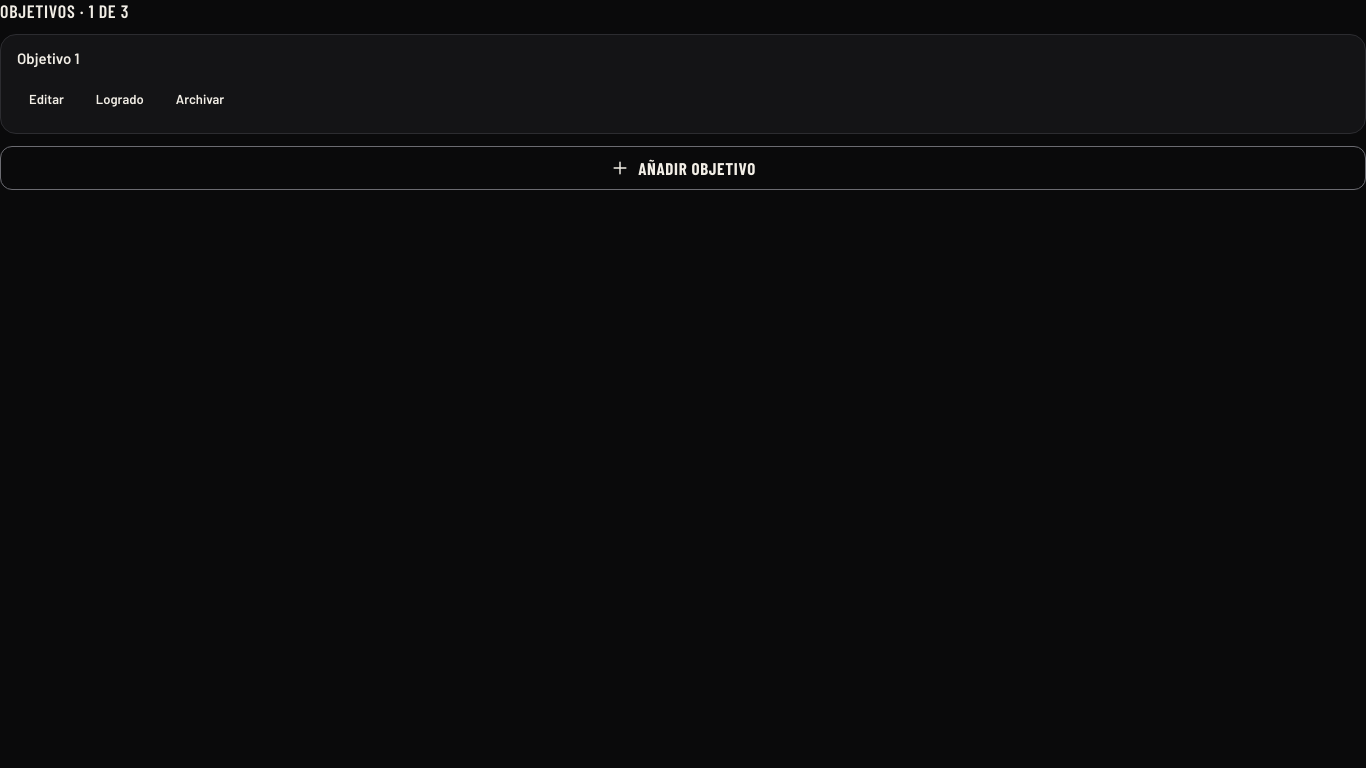
Scenario: PlayerGoals › si la base dice GOAL_LIMIT, la hoja lo explica y sigue abierta
Click the button "Añadir objetivo" at (683,168), box [0,146,1365,190]
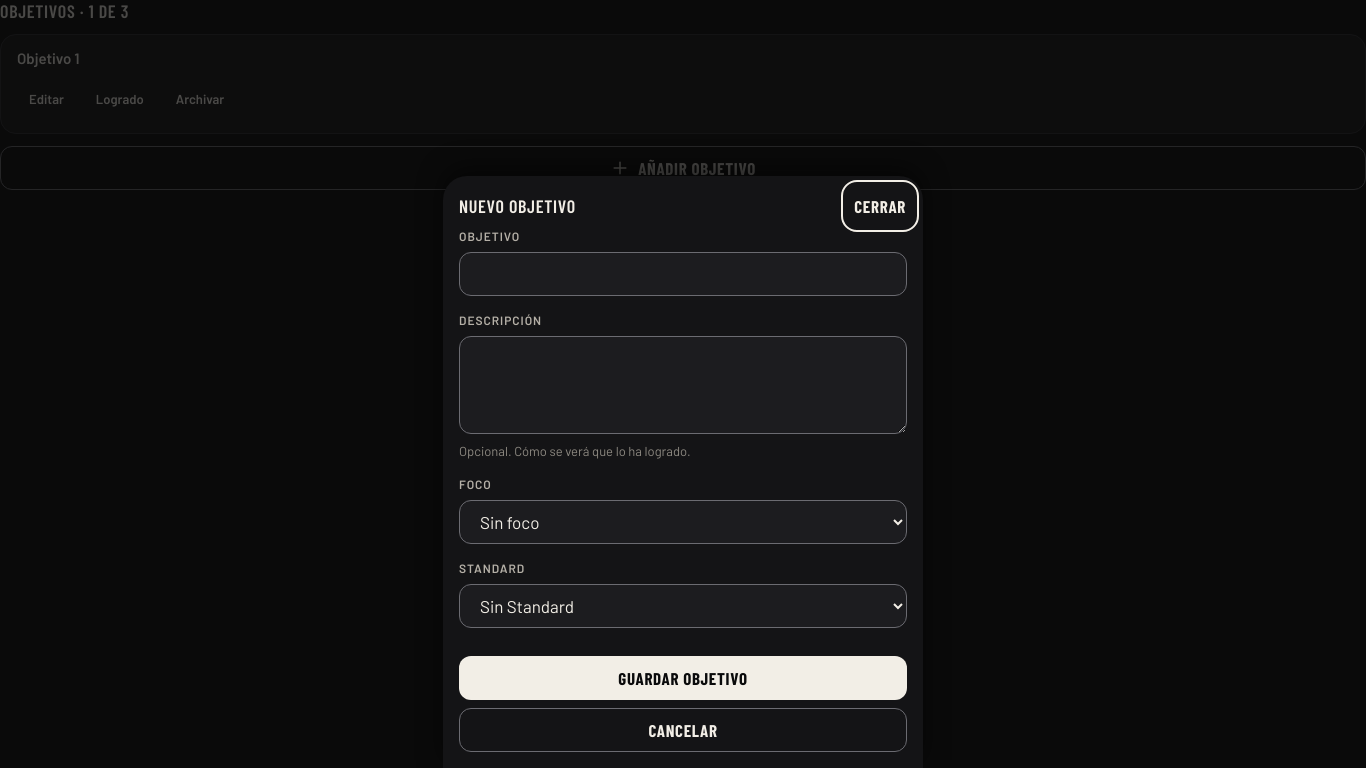
Type "Otro" into the field labelled "Objetivo" at (683,274), box [459,252,907,296]
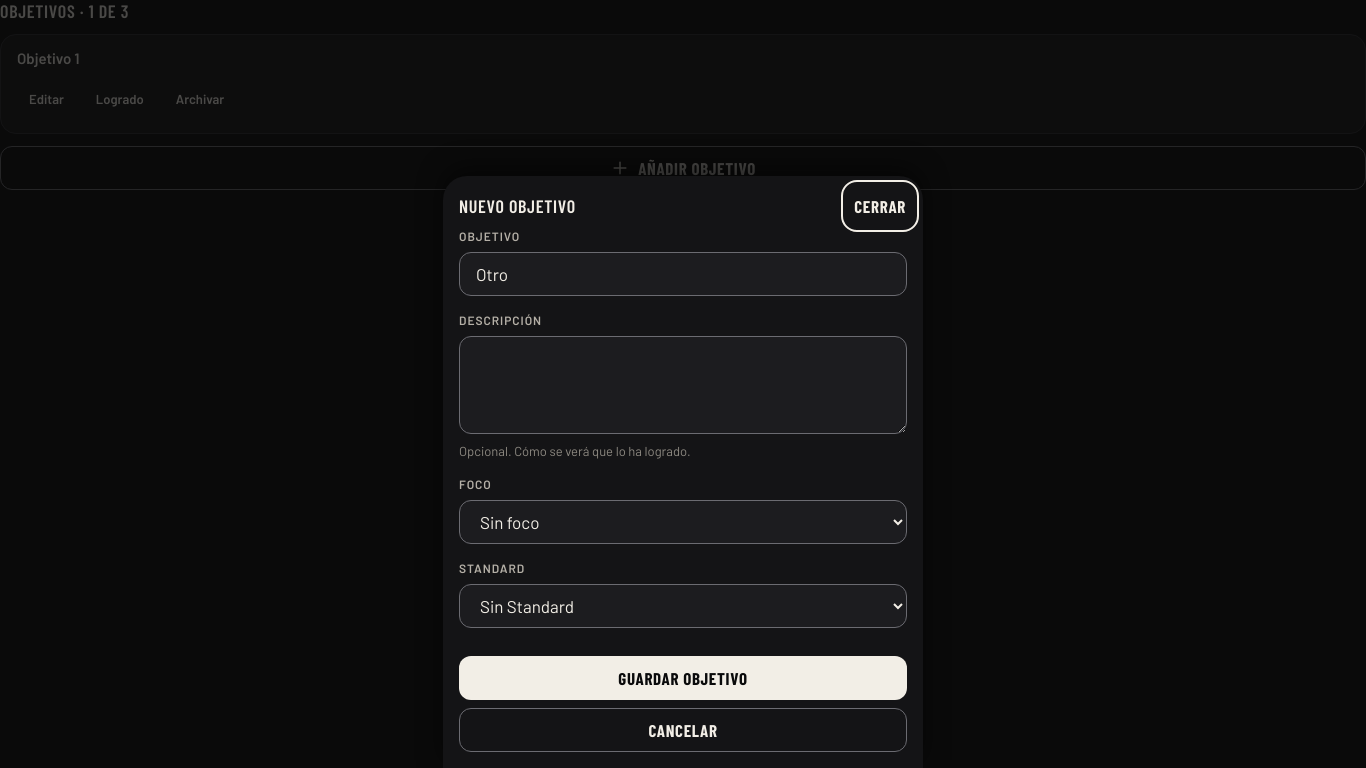
Click the button "Guardar objetivo" at (683,678), box [459,656,907,700]
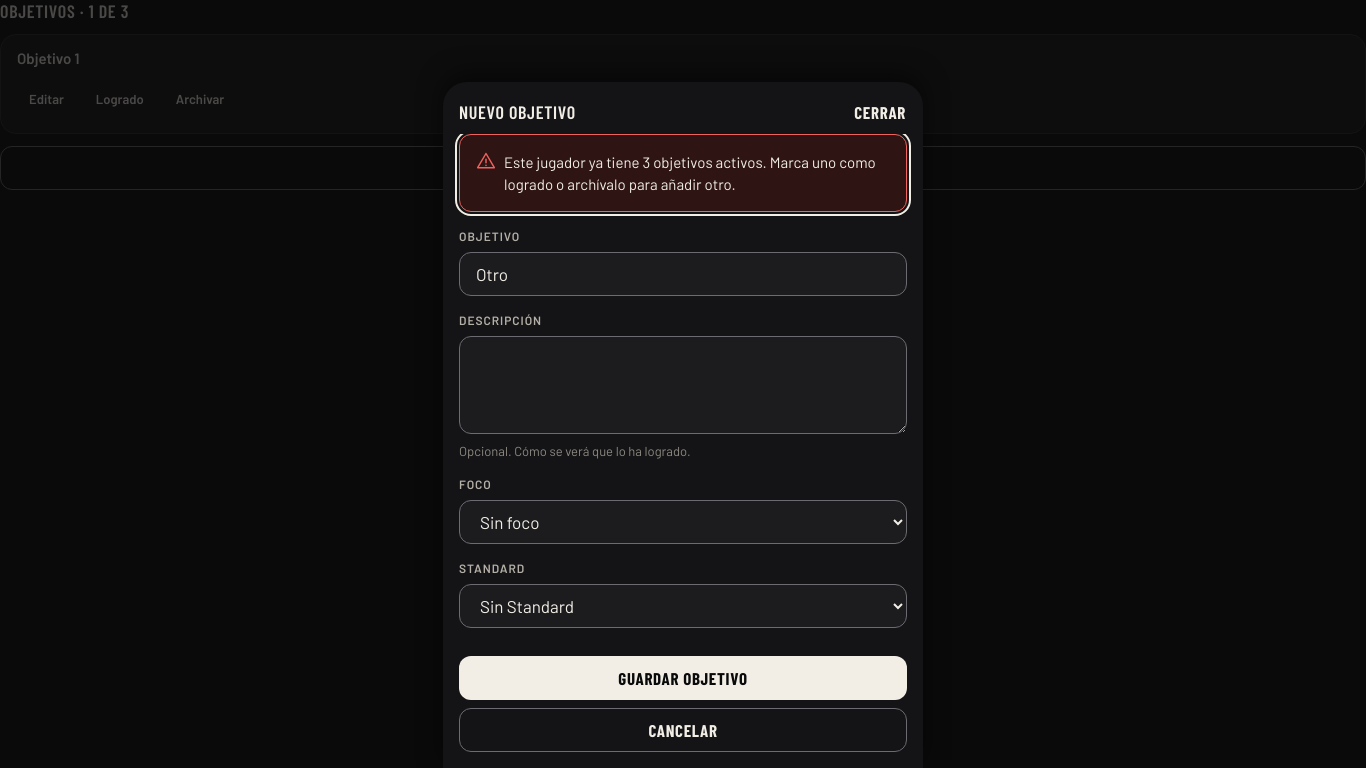
expect the message shows "ya tiene 3 objetivos activos": met, box [504,153,876,193]
